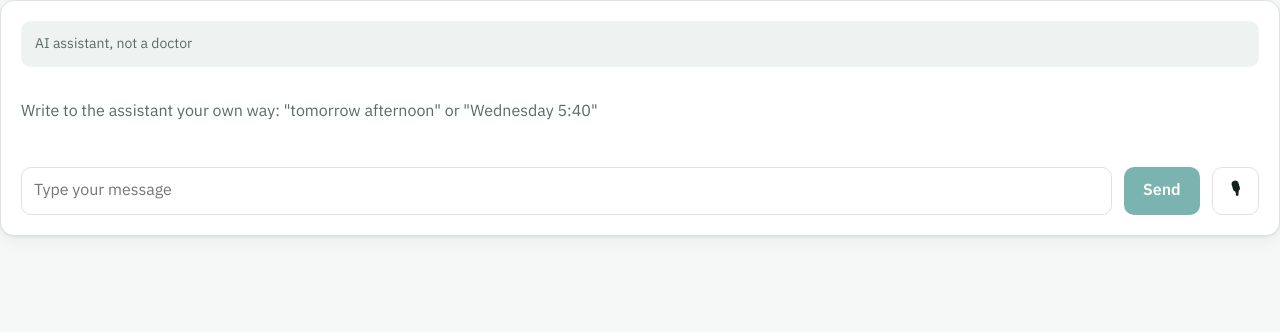
Test case: the chat panel › keeps the draft and says so when the assistant cannot answer
Type "hello" into the field labelled "Type your message" at [566, 191], box top-left (21, 167), bottom-right (1112, 215)
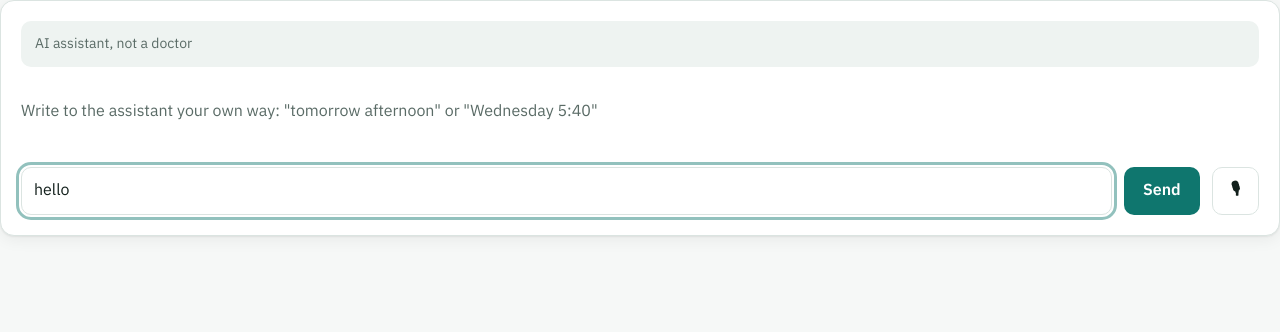
Click the button "Send" at [1162, 191], box top-left (1124, 167), bottom-right (1200, 215)
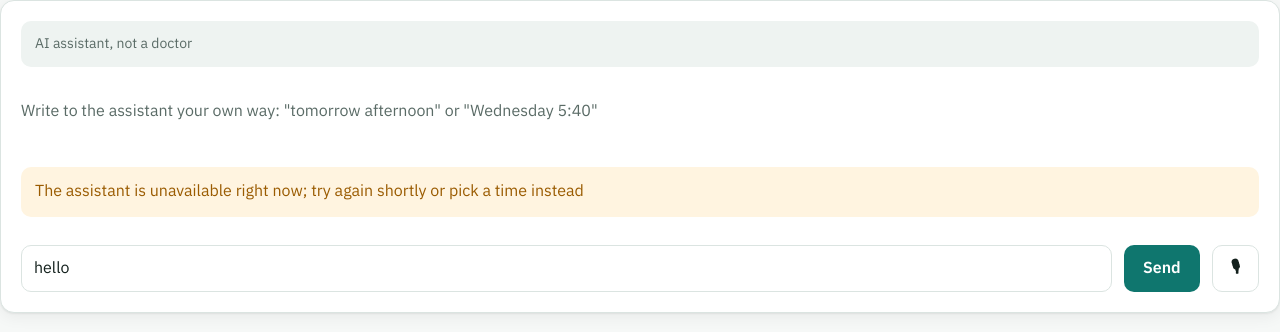
Now the message shows "The assistant is unavailable right now", box top-left (35, 179), bottom-right (584, 203)
